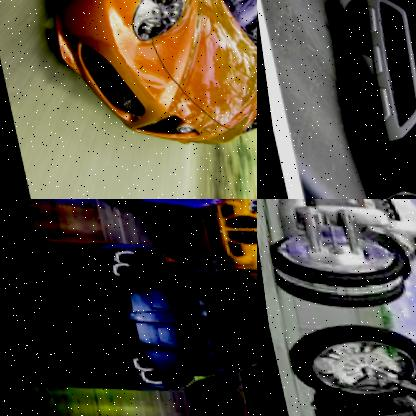bike: (257, 199, 416, 319), (269, 294, 416, 416)
car: (15, 217, 257, 407), (3, 0, 257, 165), (340, 0, 416, 199), (215, 199, 257, 281)
